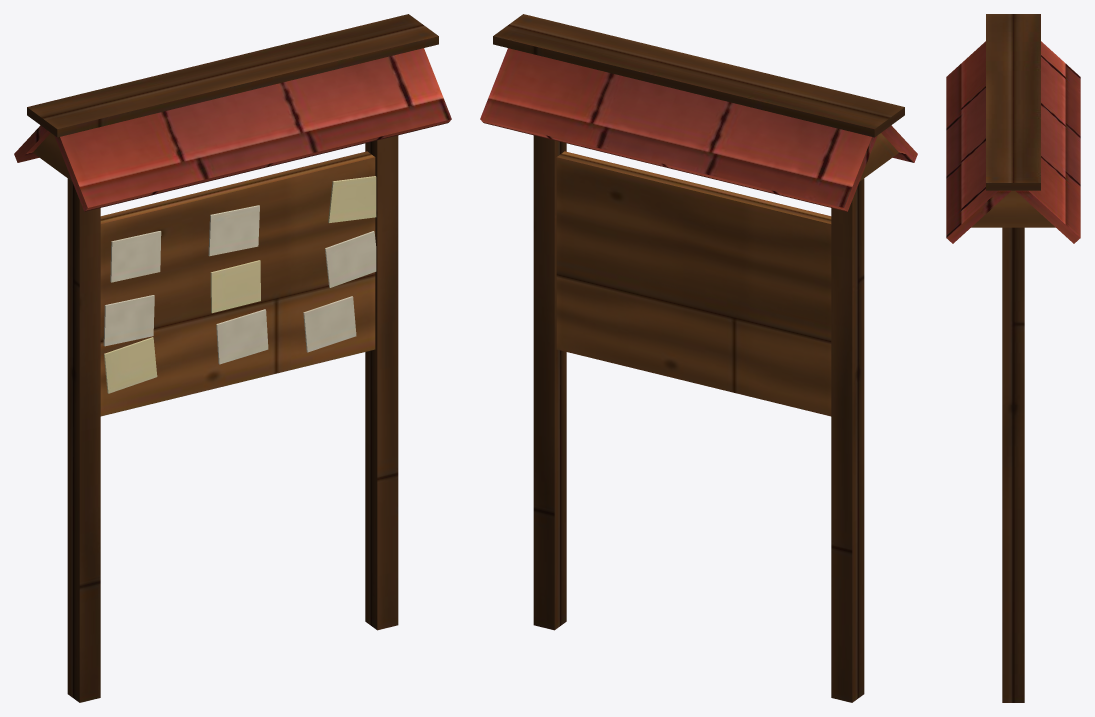
Rendered from notice_board.glb.
3 renders of one model, left to right at view 1: azimuth 30°, elevation 25°; view 2: azimuth 150°, elevation 25°; view 3: azimuth 270°, elevation 25°, orthographic. The views are drawn at different scales.
Visible parts, largest first — view 1: props_0_0; view 2: props_0_0; view 3: props_0_0.
Part boxes in pixels (x1,y1,x2,y2): props_0_0: (14,14,451,702); props_0_0: (480,14,917,702); props_0_0: (946,14,1080,702).
Size of the model in its own units: 2.18 by 3.21 by 0.7307.
1 material, 1 textured.
